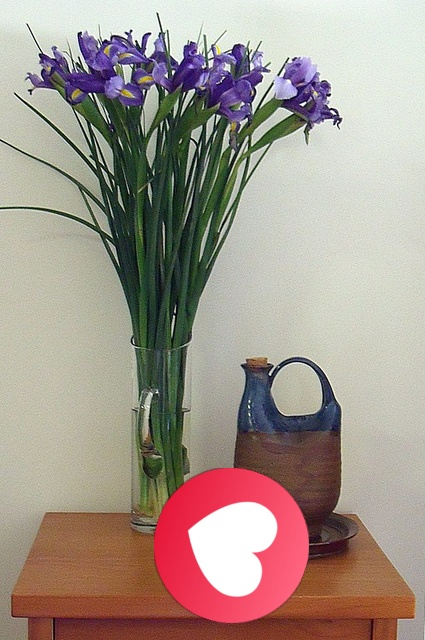love: (154, 468, 309, 623)
